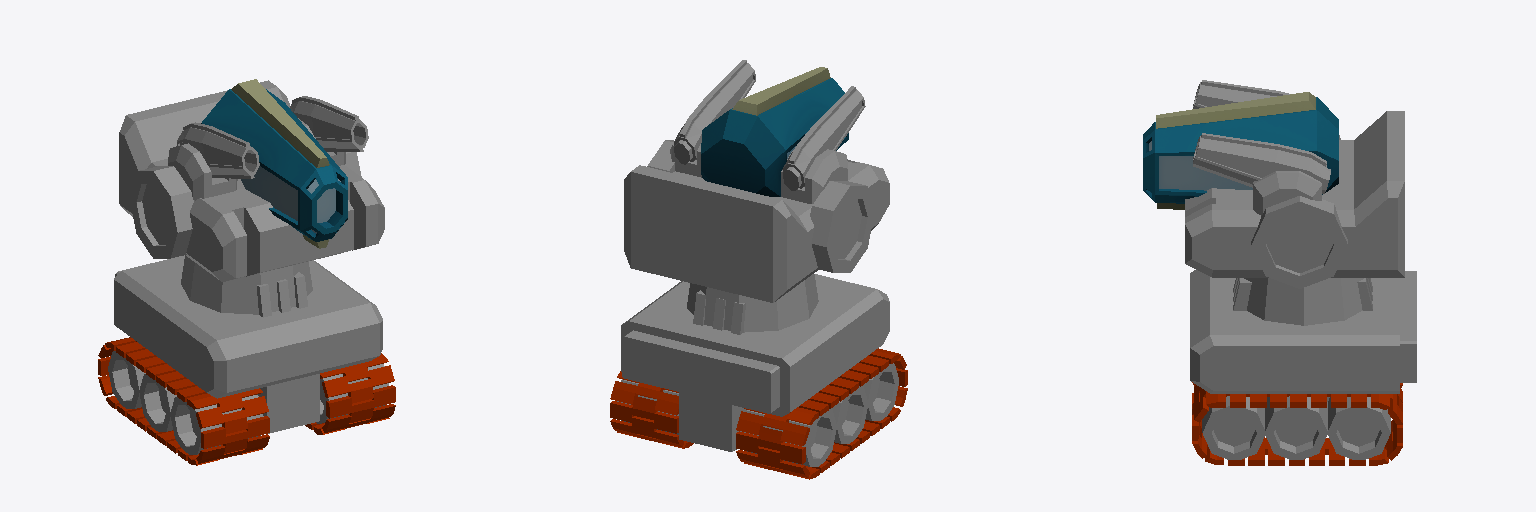
3 renders of one model, left to right at view 1: azimuth 30°, elevation 25°; view 2: azimuth 150°, elevation 25°; view 3: azimuth 270°, elevation 25°, orthographic.
Visible parts, largest first — view 1: Object004, Box038, Object012, Object011, Box042; view 2: Object004, Box038, Object012, Object011, Box042; view 3: Object004, Object011, Object012, Box042.
Part boxes in pixels (x1,y1,x2,y2): Object004: (114,79,384,433); Box038: (98,337,269,465); Object012: (177,96,368,178); Object011: (108,351,388,454); Box042: (305,353,395,434); Object004: (621,67,889,451); Box038: (736,348,907,479); Object012: (674,60,865,190); Object011: (617,363,898,466); Box042: (610,371,693,448); Object004: (1143,92,1416,401); Object011: (1202,396,1390,459); Object012: (1193,80,1330,193); Box042: (1192,385,1402,465).
Bounding box in the file's own units: 110 × 178 × 136.
4 materials, 1 textured.